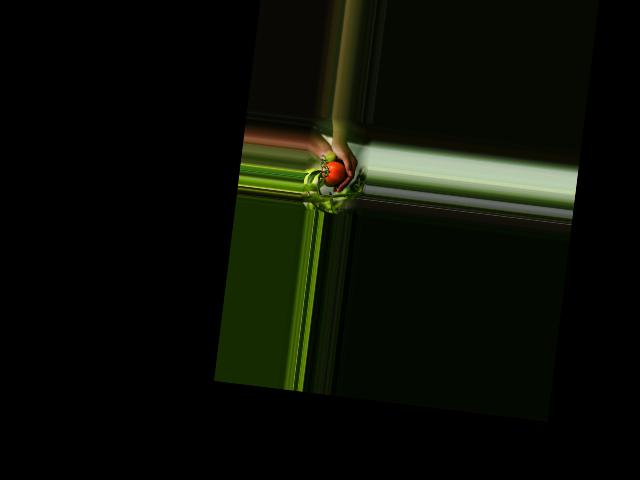tomato: (321, 160, 347, 185)
